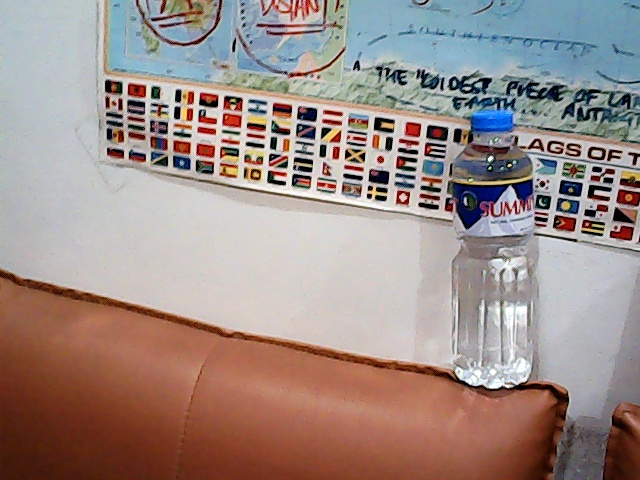Summit Water: (446, 102, 542, 396)
